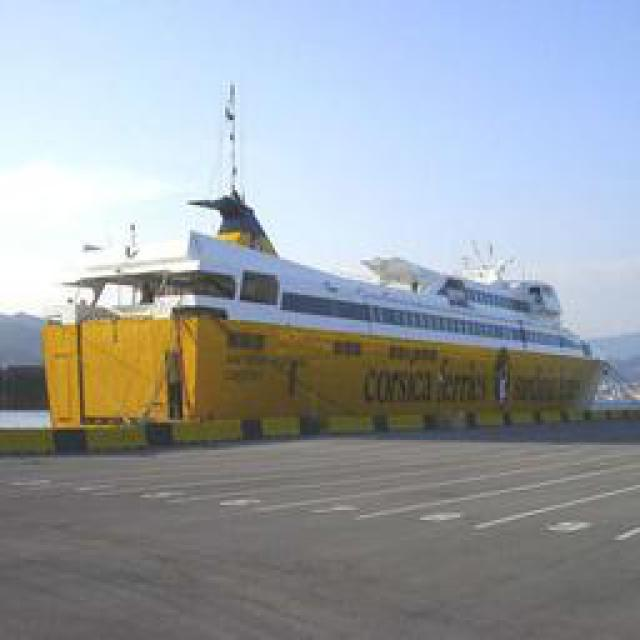Ship: (45, 140, 603, 438)
